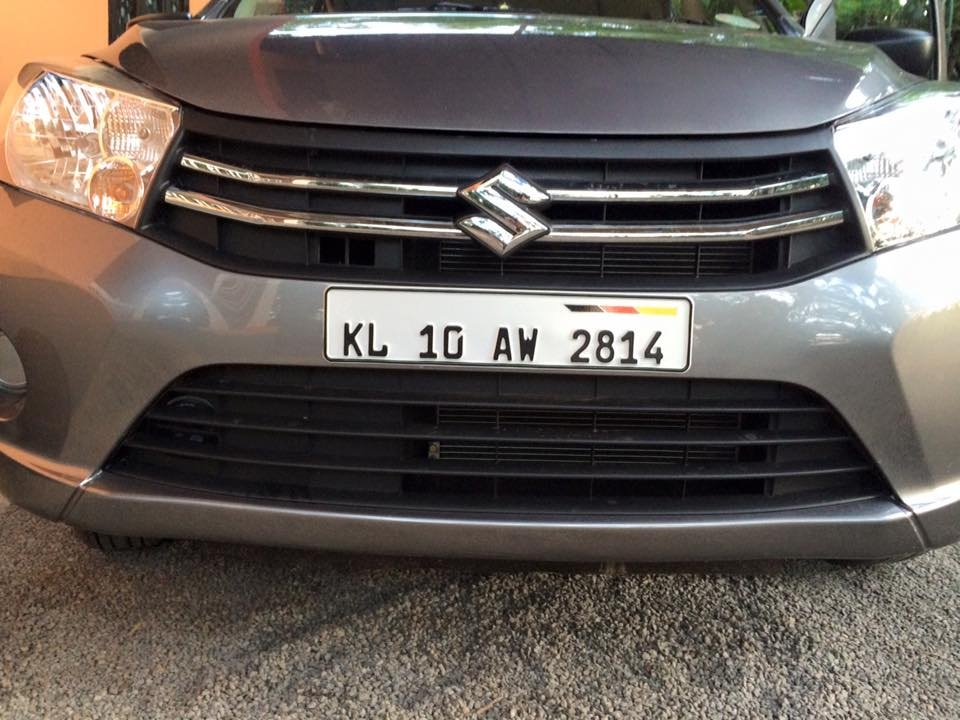number_plate: (322, 300, 682, 371)
